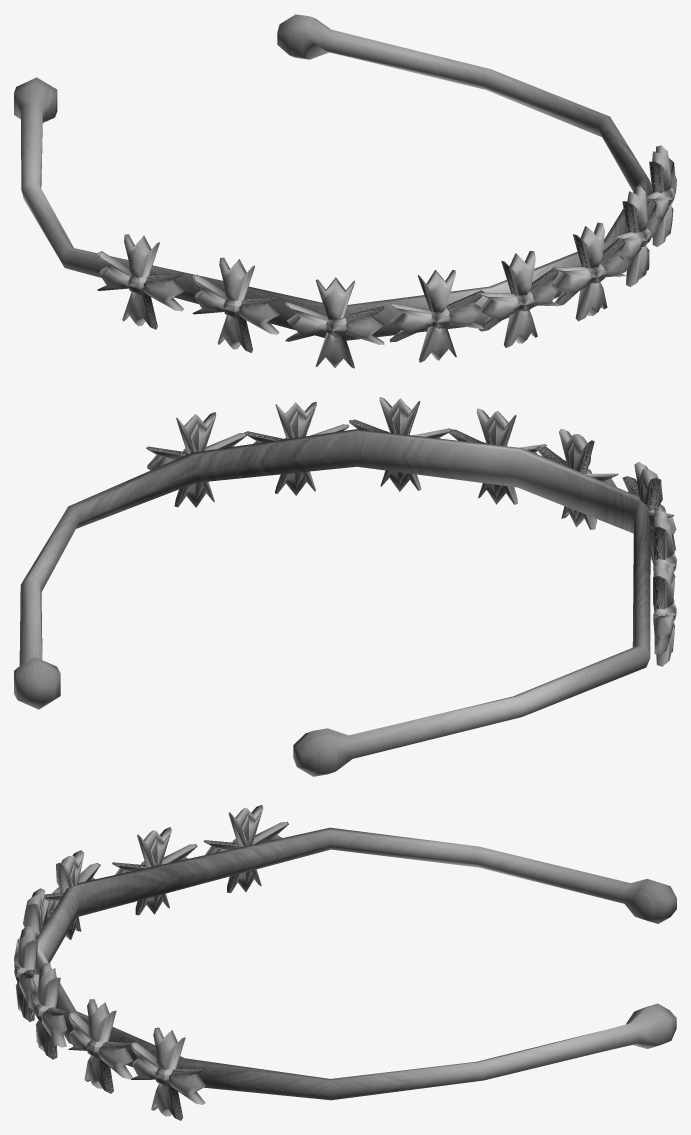
Rendered from silverbrackeltbangle.fbx.
3 views of the same model, one above another, from view 1: azimuth 30°, elevation 25°; view 2: azimuth 150°, elevation 25°; view 3: azimuth 270°, elevation 25° (orthographic). The views are drawn at different scales.
Parts seen in each view (by area): view 1: bracelet, cross5, cross4, cross6, cross7, cross3, cross2, cross1, cross; view 2: bracelet, cross, cross1, cross7, cross4, cross2, cross3, cross5, cross6; view 3: bracelet, cross, cross1, cross2, cross7, cross6, cross3, cross5, cross4.
Part boxes in pixels (x1,y1,x2,y2): bracelet: (14,14,652,340); cross5: (285,277,384,368); cross4: (389,270,484,362); cross6: (192,257,279,352); cross7: (97,234,184,329); cross3: (478,251,559,347); cross2: (553,222,625,321); cross1: (612,186,658,286); cross: (646,145,676,246); bracelet: (14,429,650,776); cross: (146,412,246,507); cross1: (244,401,348,495); cross7: (653,559,674,666); cross4: (536,429,618,529); cross2: (349,397,452,491); cross3: (448,408,546,504); cross5: (622,462,676,564); cross6: (653,509,675,594); bracelet: (35,827,676,1100); cross: (131,1027,206,1120); cross1: (68,999,133,1093); cross2: (29,963,67,1059); cross7: (203,805,288,892); cross6: (112,827,197,915); cross3: (14,925,38,1021); cross5: (44,850,100,939); cross4: (23,888,49,939).
Size of the model in its own units: 10.81 by 1.69 by 11.7.
